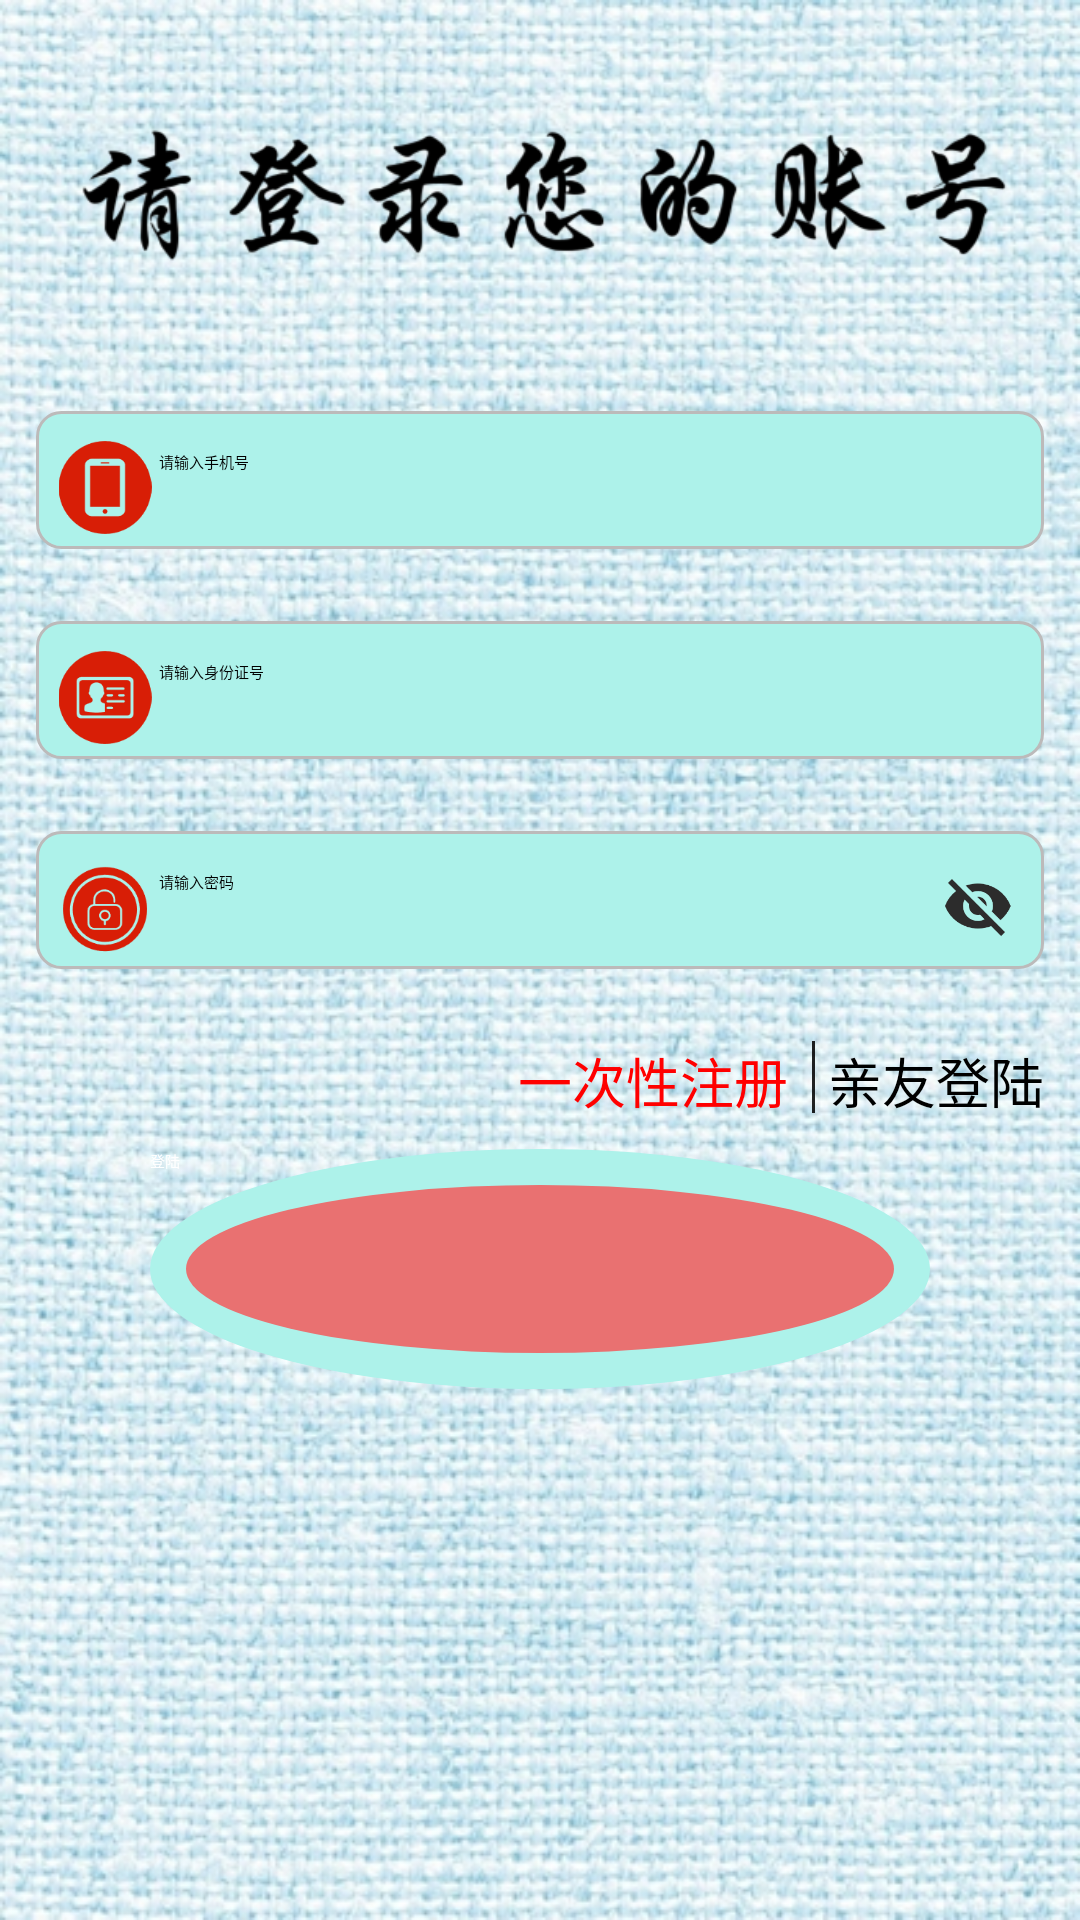

Screen size 1080 × 1920. Icon name, then its center in pixels as point (x, y):
card: point (105, 697)
phone: point (105, 487)
